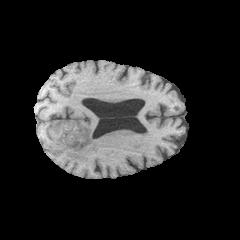glioma: (47, 120, 141, 165)
